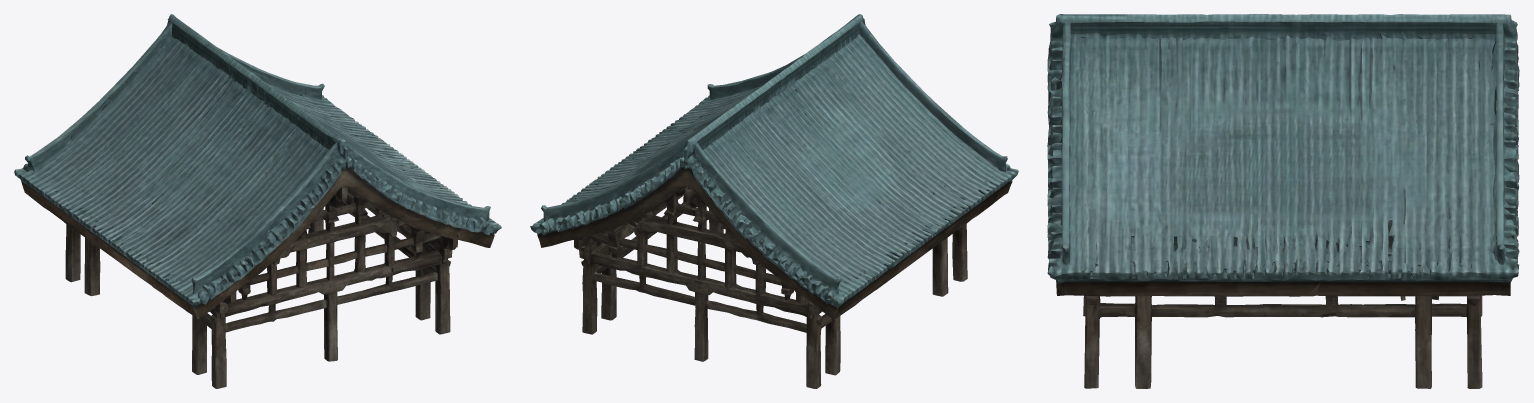
The model's file is ARCH-012.glb.
3 views of the same model, side by side, from view 1: azimuth 30°, elevation 25°; view 2: azimuth 150°, elevation 25°; view 3: azimuth 270°, elevation 25° (orthographic). The views are drawn at different scales.
Bounding box in the file's own units: 4.5 × 3.16 × 4.51.
1 material, 1 textured.
